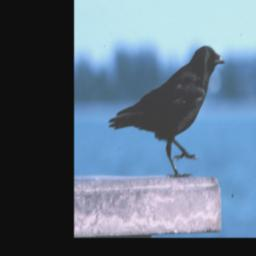Crow: (107, 41, 226, 180)
